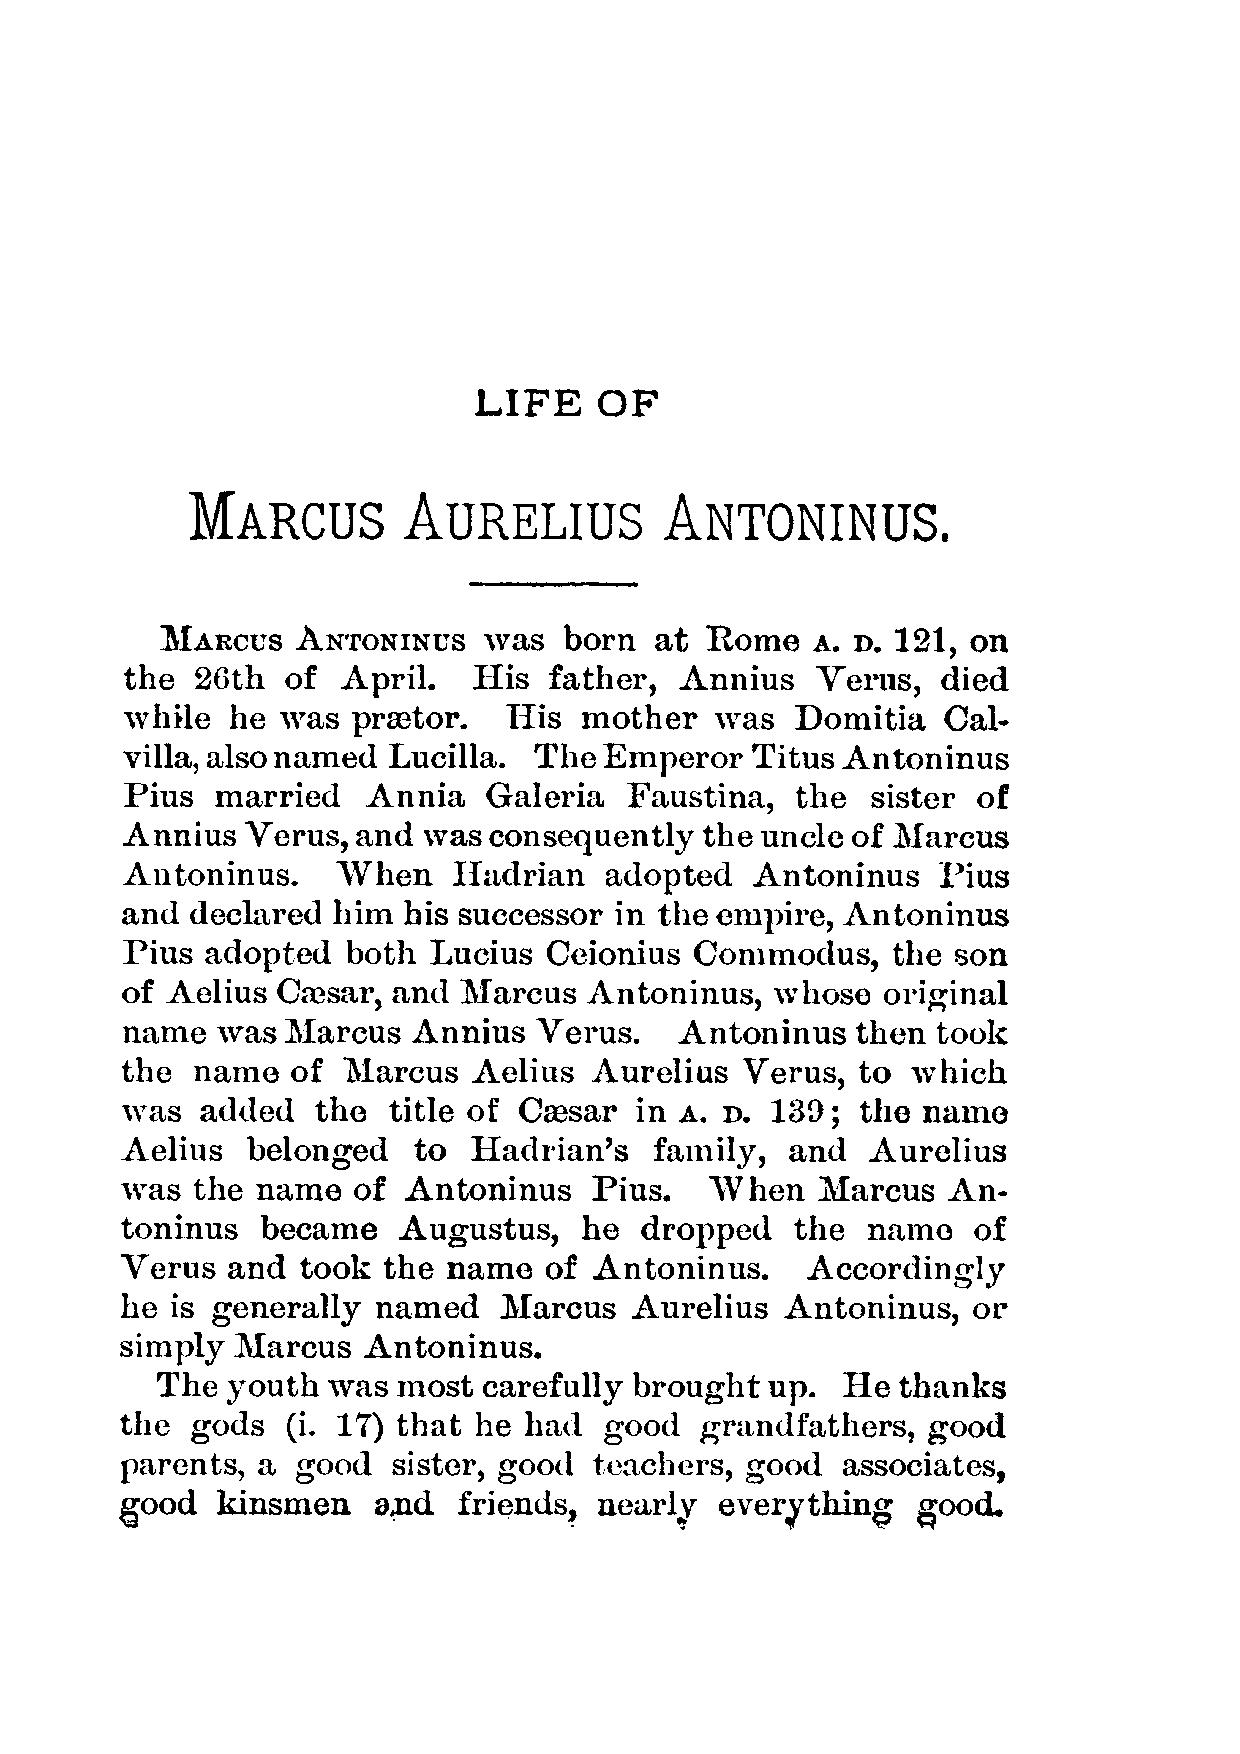chapter: (184, 385, 951, 545)
content: (119, 619, 1011, 1529)
